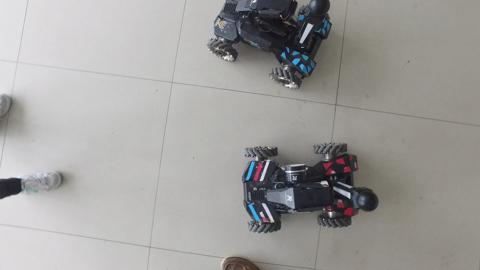chariot: (241, 137, 380, 239), (208, 1, 335, 95)
